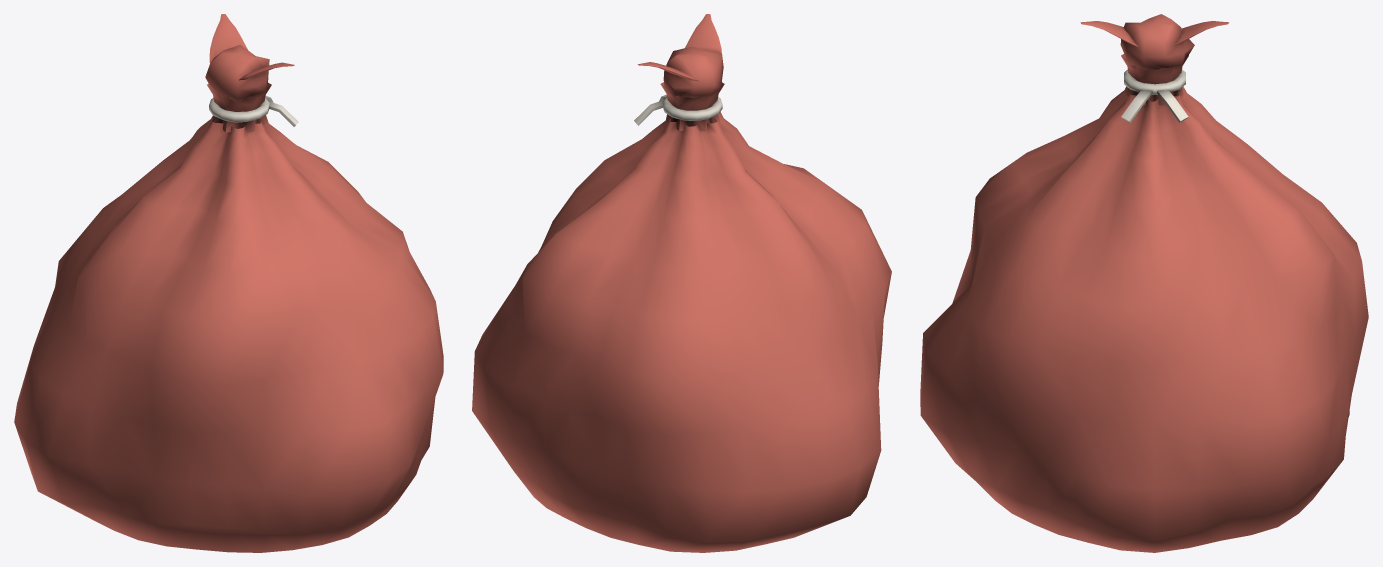
File: junk_bag.glb
3 renders of one model, left to right at view 1: azimuth 30°, elevation 25°; view 2: azimuth 150°, elevation 25°; view 3: azimuth 270°, elevation 25°, orthographic. The views are drawn at different scales.
Parts seen in each view (by area): view 1: PART; view 2: PART; view 3: PART.
Boxes of the visible parts, x1,y1,x2,y2 form: PART: (14, 14, 443, 552); PART: (472, 14, 891, 552); PART: (920, 14, 1368, 552).
Size of the model in its own units: 0.4689 by 0.5344 by 0.4636.
